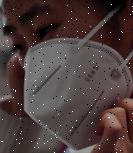with_mask: (1, 2, 133, 153)
